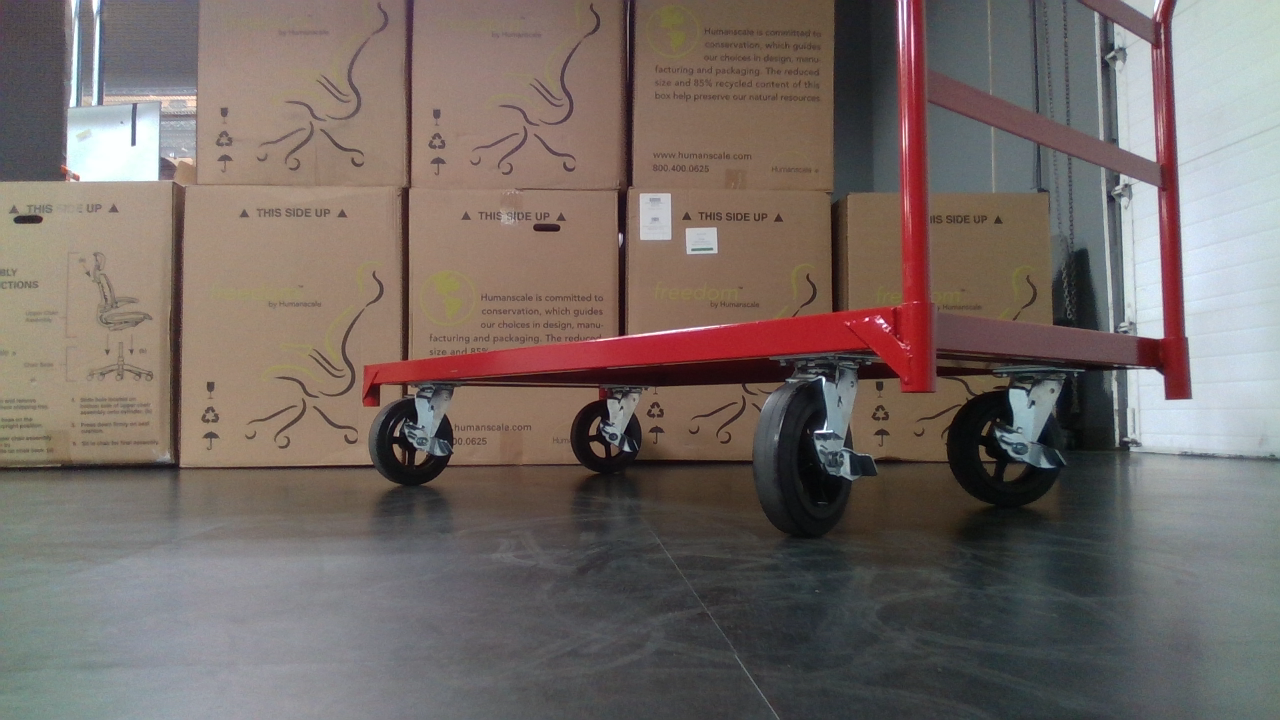Dolly: (337, 0, 1212, 398)
Wheel: (740, 377, 878, 541), (946, 376, 1073, 521), (369, 395, 461, 491), (560, 396, 657, 477)
